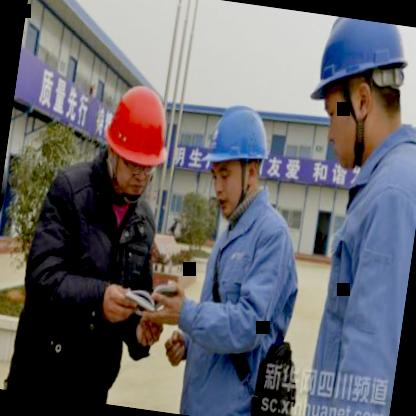helmet: (295, 13, 416, 181), (90, 69, 182, 211), (190, 91, 284, 224)
